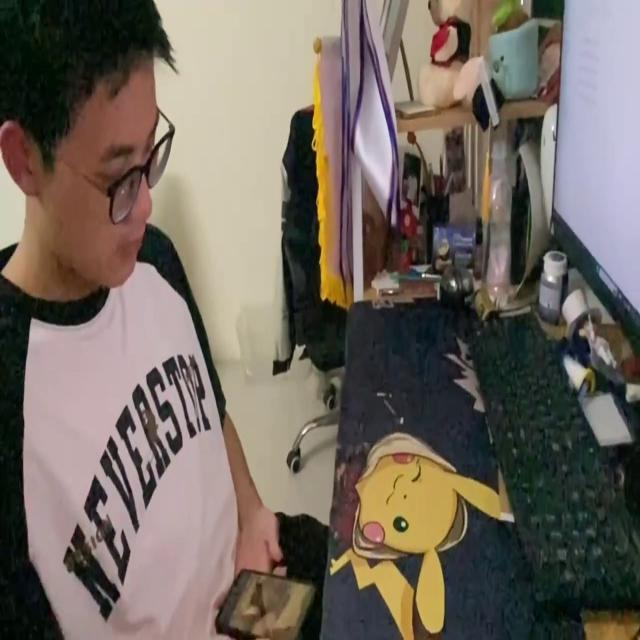laptop: (550, 2, 640, 361)
phone: (210, 557, 315, 640)
student: (0, 0, 323, 640)
